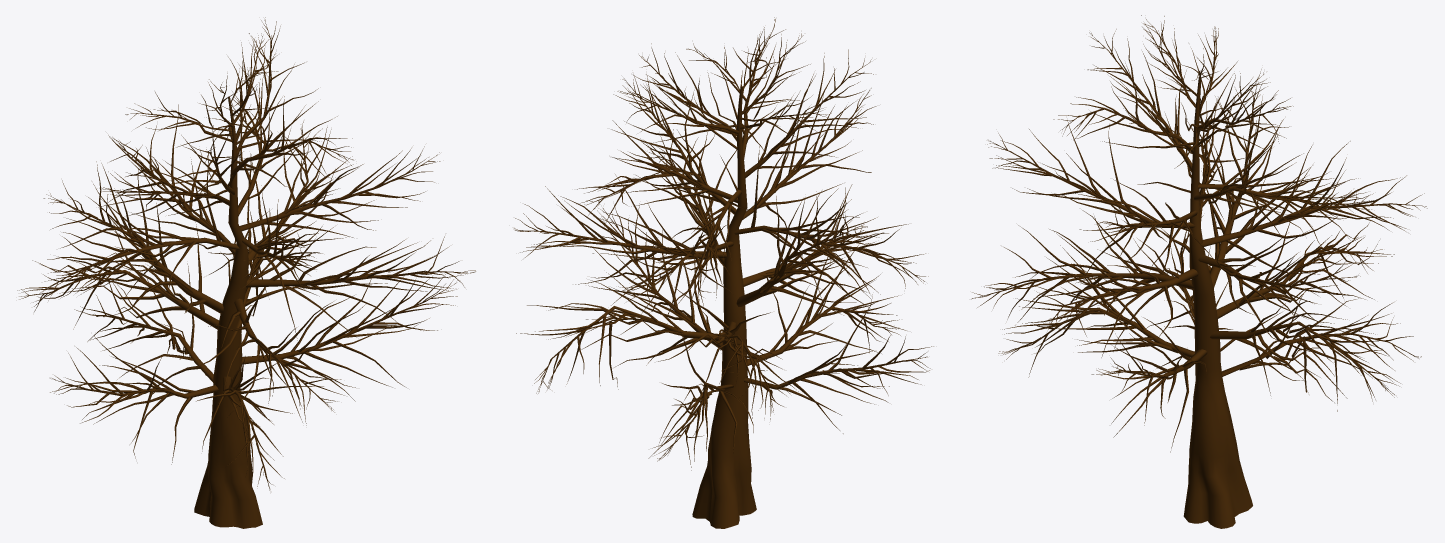
The model's file is chestnuttree2VRdead.fbx.
The picture shows the model from 3 angles, left to right: view 1: azimuth 30°, elevation 25°; view 2: azimuth 150°, elevation 25°; view 3: azimuth 270°, elevation 25°; orthographic projection.
Parts seen in each view (by area): view 1: Foliage001; view 2: Foliage001; view 3: Foliage001.
Boxes of the visible parts, left/top/right/bottom form: Foliage001: left=17, top=17, right=475, bottom=528; Foliage001: left=514, top=17, right=933, bottom=528; Foliage001: left=971, top=15, right=1427, bottom=528.
Bounding box in the file's own units: 367 × 446 × 385.
